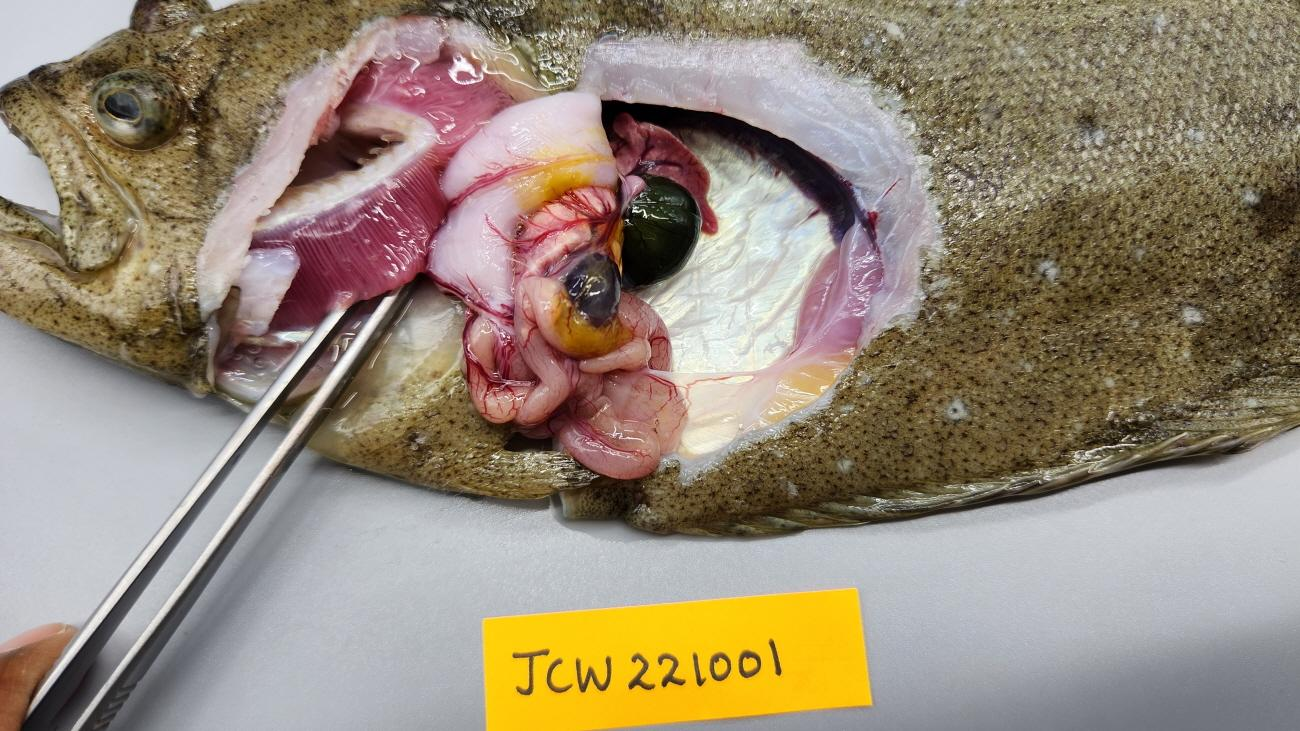POINN: (514, 278, 686, 480)
POSPN: (564, 252, 621, 328)
